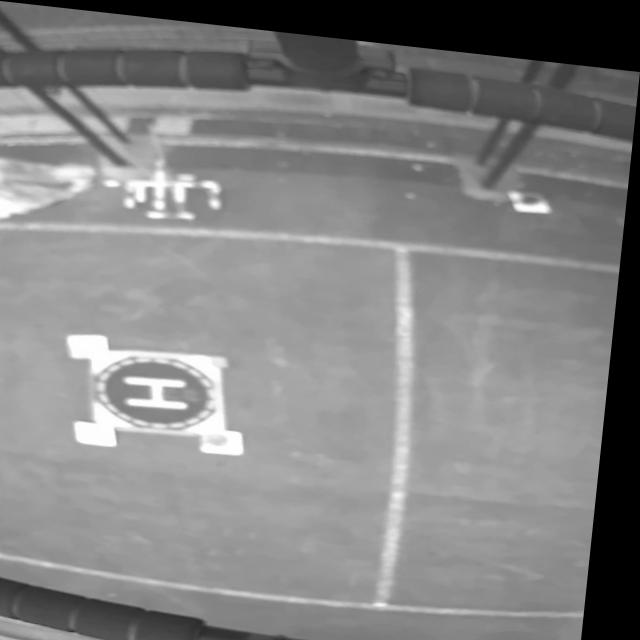Helipad: (132, 371, 196, 405)
